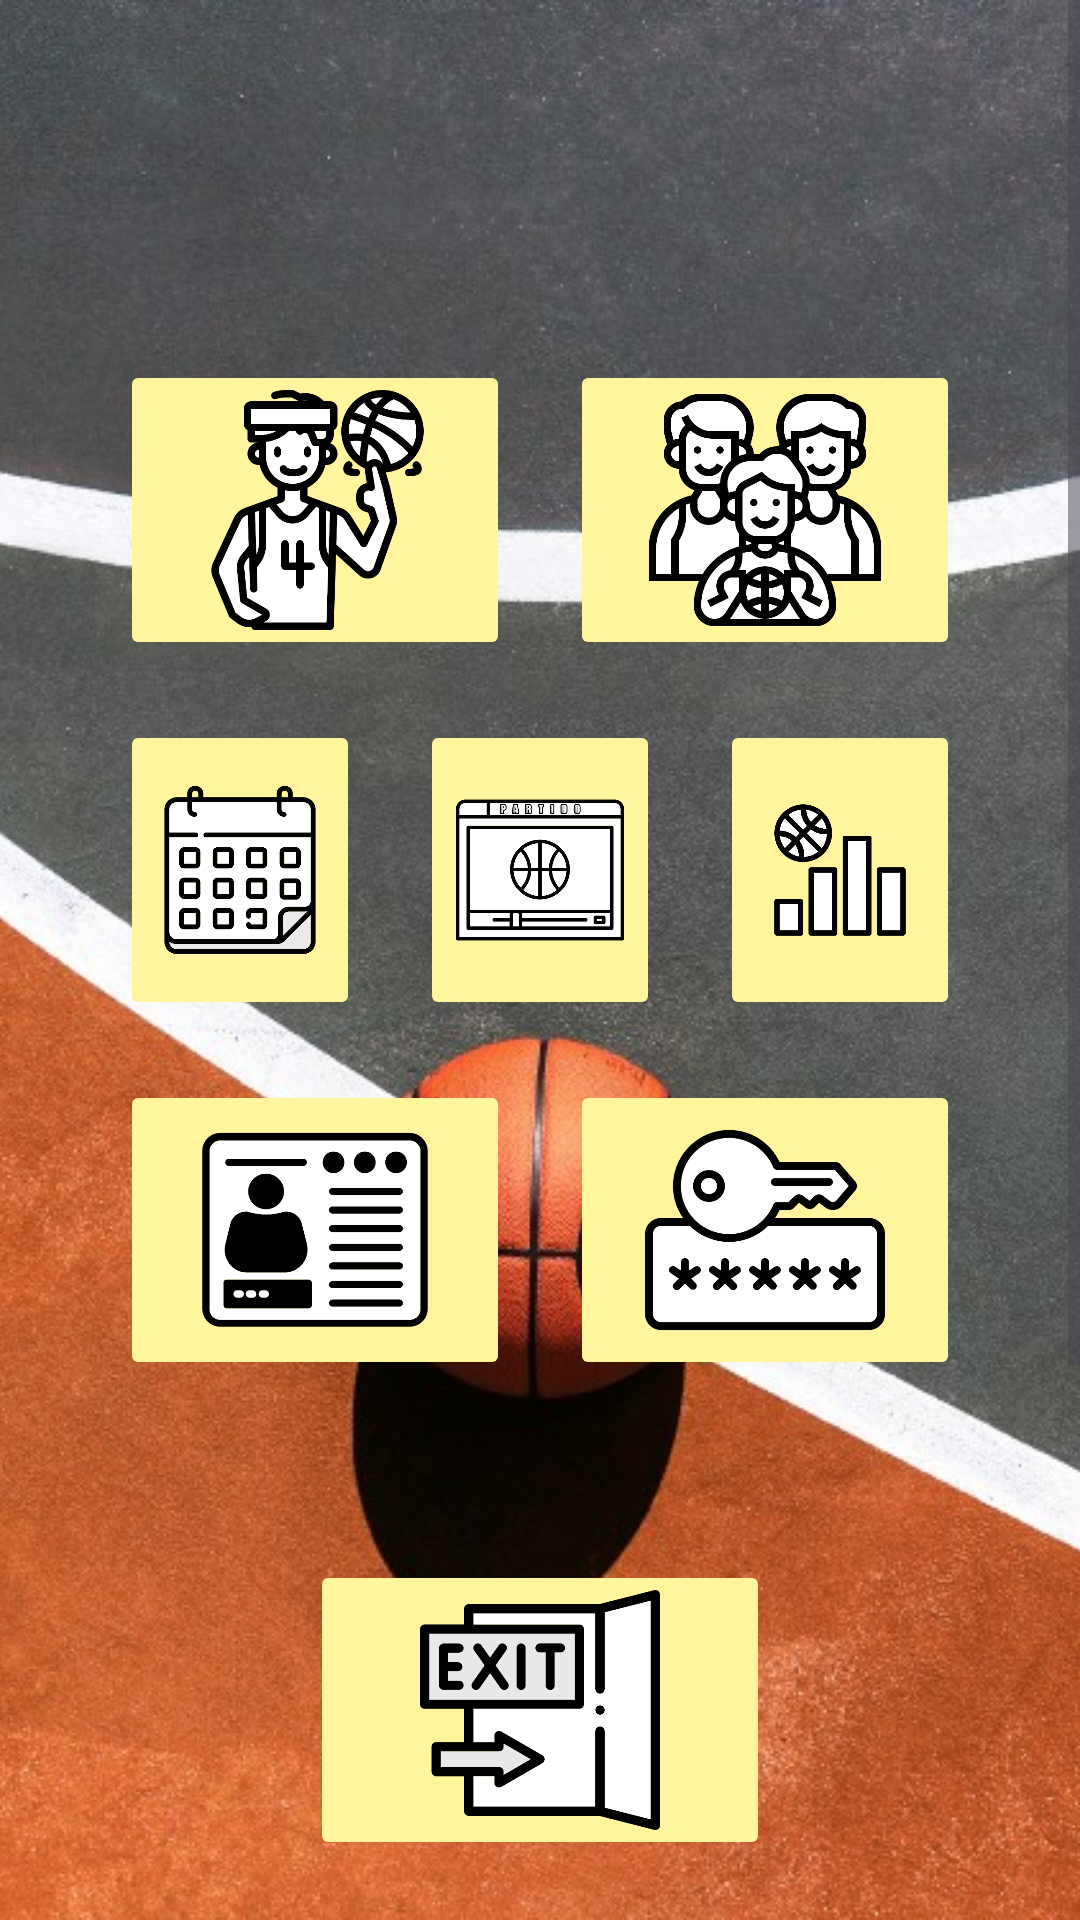

Where to tap for icons on this 1080×1920 app screen, as [x,y]:
calendario: [240,879]
estadistica: [840,869]
partido: [541,871]
